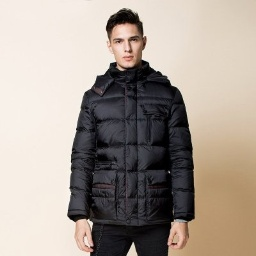face: (104, 8, 148, 70)
